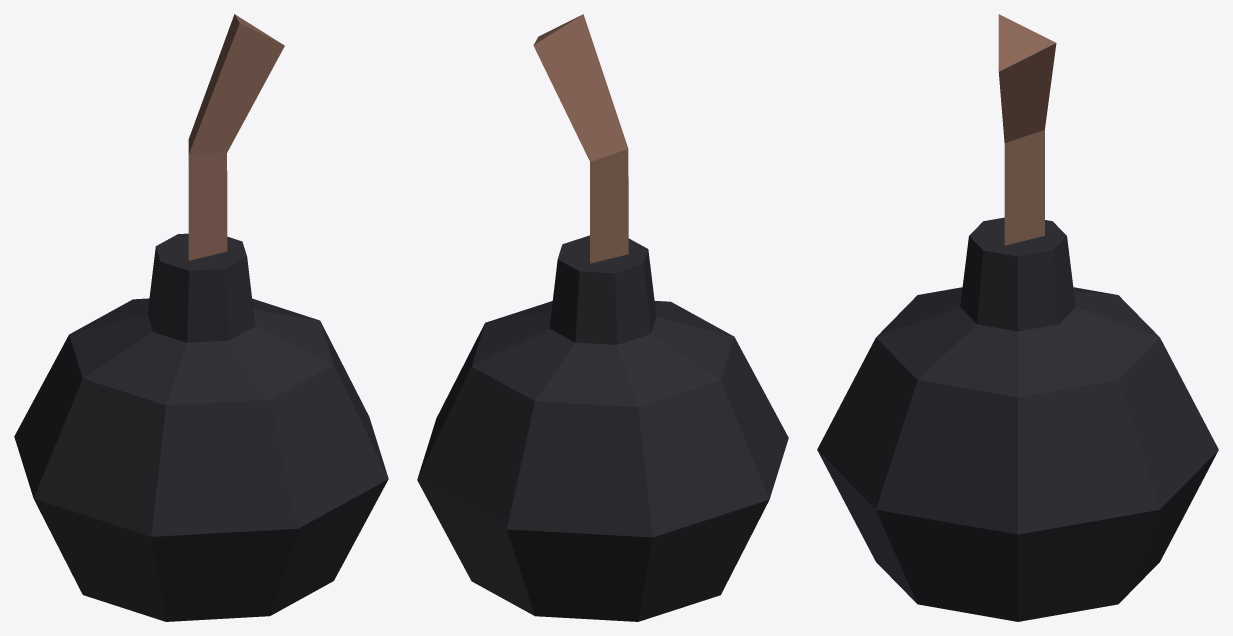
Rendered from LPWarPack_BlackBomb.fbx.
3 renders of one model, left to right at view 1: azimuth 30°, elevation 25°; view 2: azimuth 150°, elevation 25°; view 3: azimuth 270°, elevation 25°, orthographic. The views are drawn at different scales.
Visible parts, largest first — view 1: BlackBomb; view 2: BlackBomb; view 3: BlackBomb.
Part boxes in pixels (bbox=[...]): BlackBomb: bbox=[14, 14, 388, 621]; BlackBomb: bbox=[417, 14, 788, 621]; BlackBomb: bbox=[817, 14, 1218, 621].
Size of the model in its own units: 35.72 by 59.73 by 35.72.
